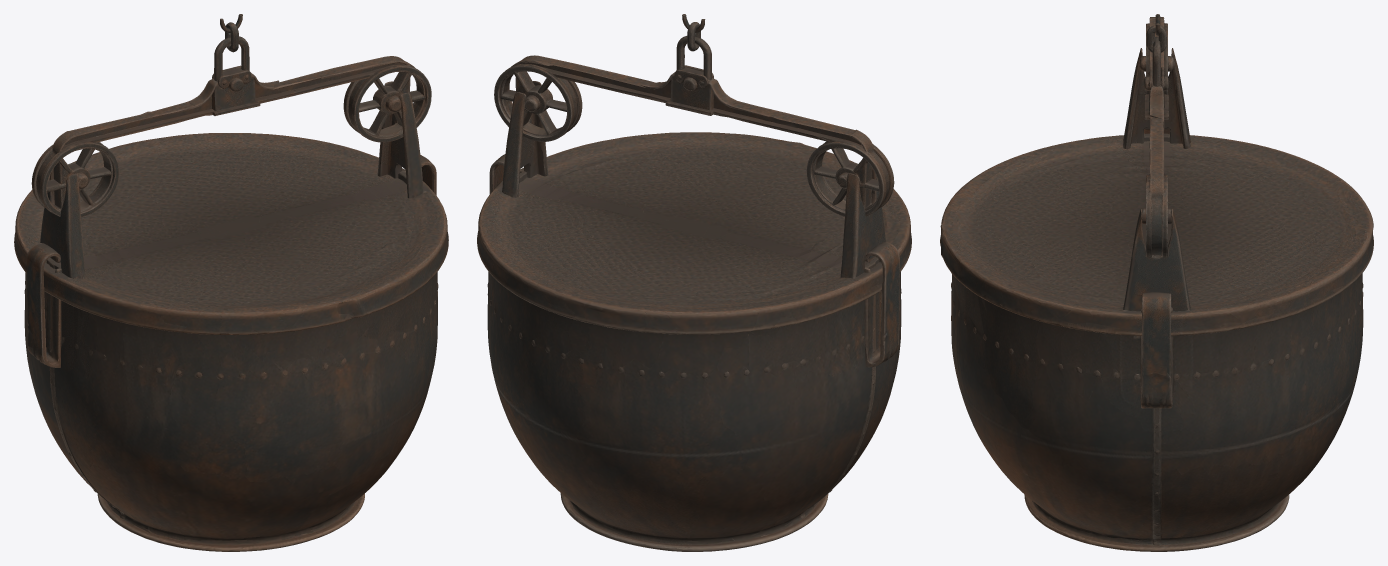
File: ropeway_bucket.glb
3 views of the same model, side by side, from view 1: azimuth 30°, elevation 25°; view 2: azimuth 150°, elevation 25°; view 3: azimuth 270°, elevation 25° (orthographic).
Size of the model in its own units: 1.65 by 1.9 by 1.57.
1 material, 1 textured.
